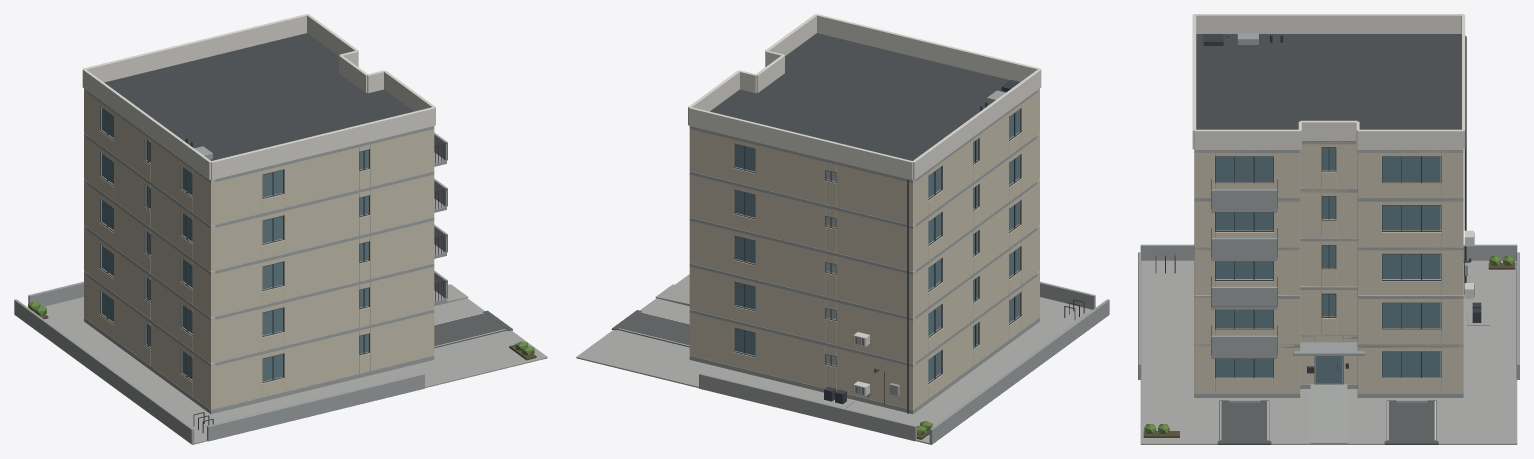
The model's file is VILLA_02_STONE_MODERN.fbx.
3 renders of one model, left to right at view 1: azimuth 30°, elevation 25°; view 2: azimuth 150°, elevation 25°; view 3: azimuth 270°, elevation 25°, orthographic. The views are drawn at different scales.
Visible parts, largest first — view 1: UNITY_ASSET_VILLA_02_STONE_MODERN; view 2: UNITY_ASSET_VILLA_02_STONE_MODERN; view 3: UNITY_ASSET_VILLA_02_STONE_MODERN.
Part boxes in pixels (box(x1,y1,x2,y2)): UNITY_ASSET_VILLA_02_STONE_MODERN: box(14, 14, 547, 444); UNITY_ASSET_VILLA_02_STONE_MODERN: box(576, 14, 1109, 444); UNITY_ASSET_VILLA_02_STONE_MODERN: box(1138, 14, 1519, 444).
Bounding box in the file's own units: 21.41 × 14.53 × 18.67.
